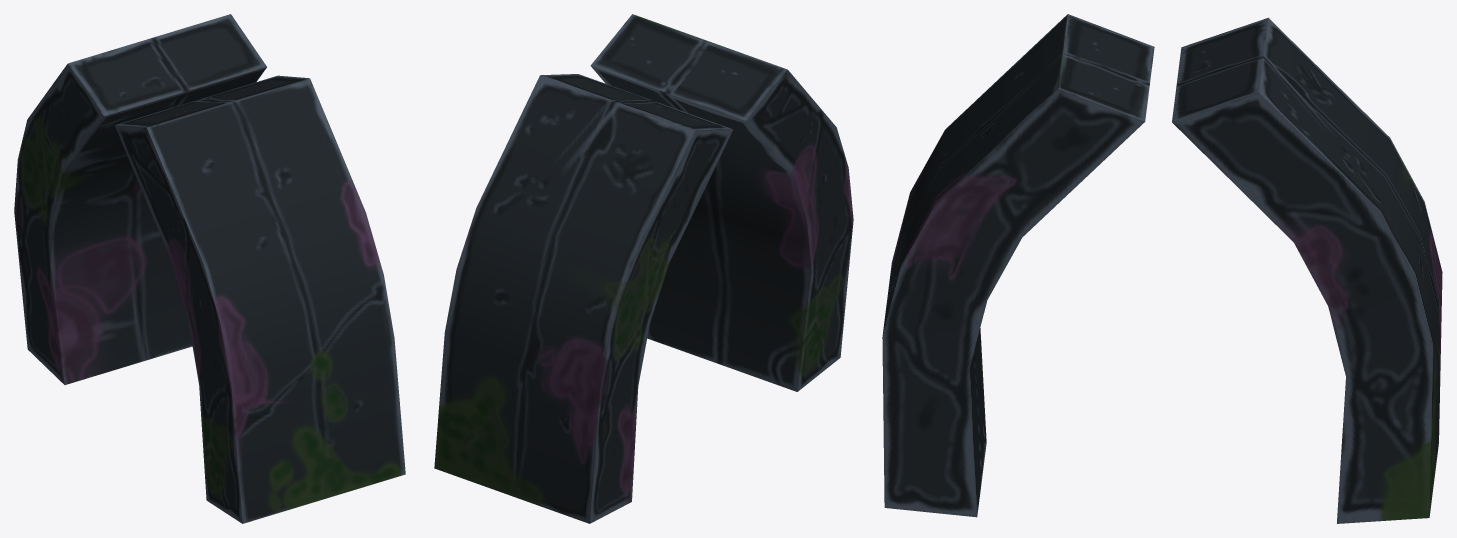
The model's file is ucu.fbx.
3 renders of one model, left to right at view 1: azimuth 30°, elevation 25°; view 2: azimuth 150°, elevation 25°; view 3: azimuth 270°, elevation 25°, orthographic. The views are drawn at different scales.
Parts seen in each view (by area): view 1: Cube.012; view 2: Cube.012; view 3: Cube.012.
Part boxes in pixels (x1,y1,x2,y2): Cube.012: (14, 14, 405, 523); Cube.012: (434, 14, 853, 523); Cube.012: (882, 14, 1442, 523).
Size of the model in its own units: 92.4 by 163 by 193.
Materials: 1 (1 with a texture image).
